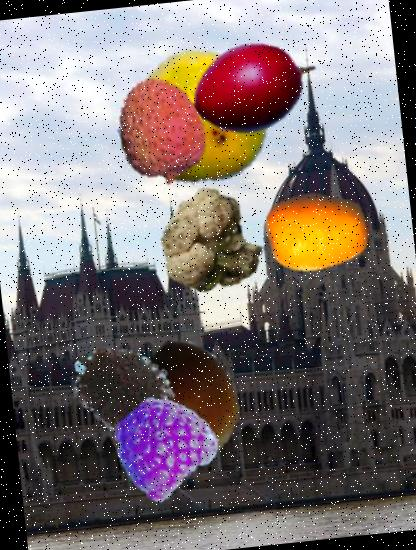Cauliflower: (154, 183, 272, 301)
Kumquats: (260, 176, 374, 290)
Lychee: (102, 70, 224, 193)
Maracuja: (113, 40, 276, 203)
Nut: (107, 339, 254, 486)
Rambutan: (66, 332, 178, 444)
Raspberry: (108, 390, 218, 498)
Tamarillo: (186, 18, 322, 153)
